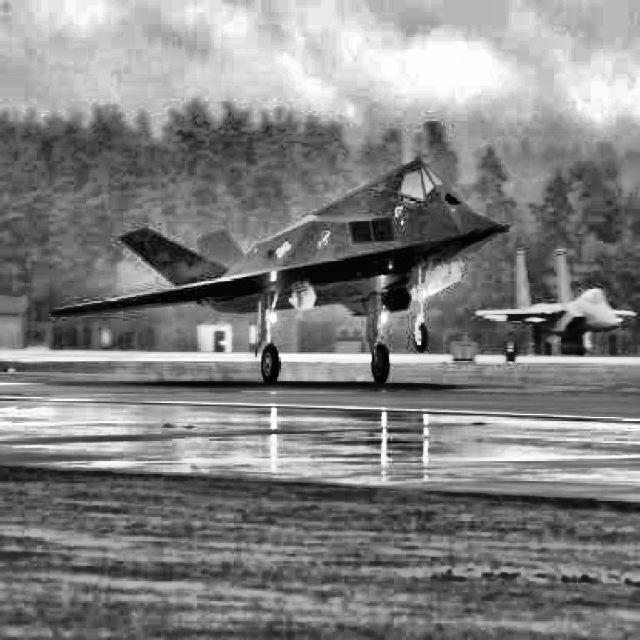F117: (50, 155, 510, 383)
F15: (476, 248, 638, 357)
